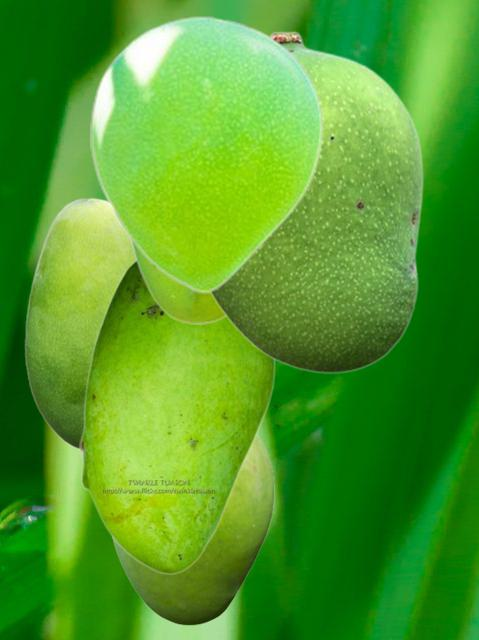green_mango: (210, 30, 422, 373), (90, 15, 322, 293), (78, 259, 275, 574), (110, 434, 273, 624), (24, 197, 133, 449), (127, 237, 225, 323)
